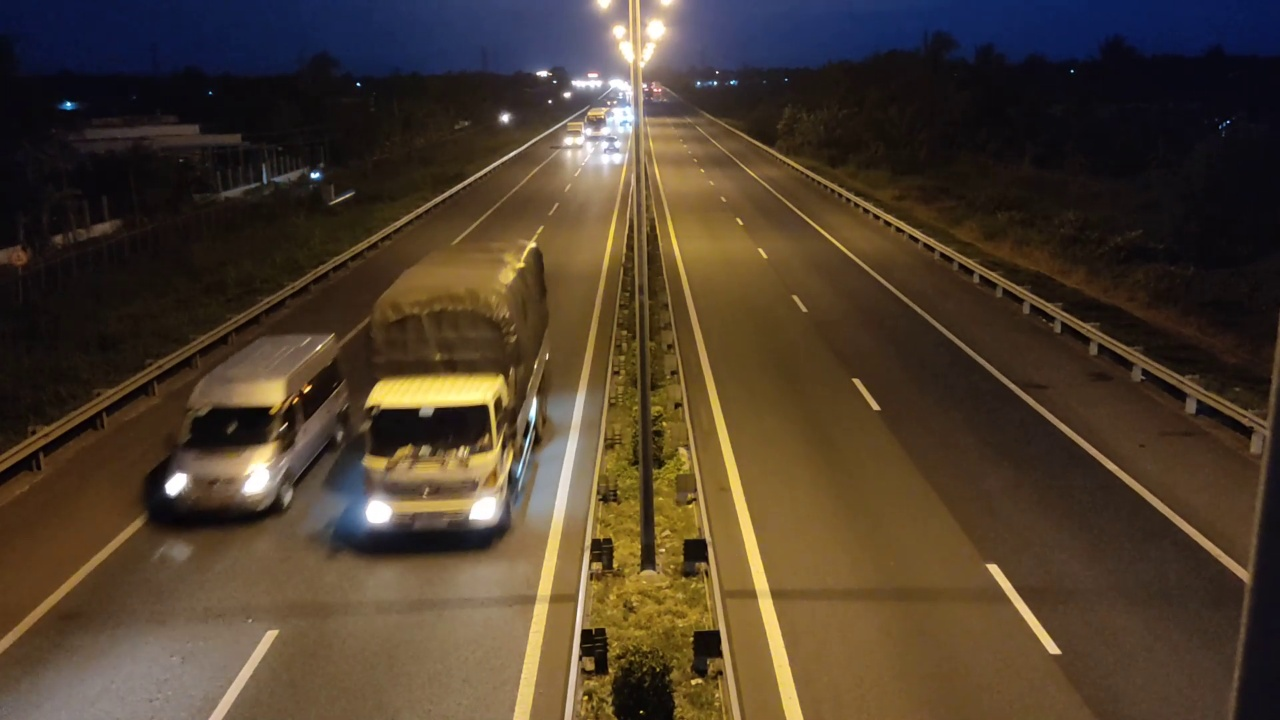car: (159, 326, 346, 525)
truck: (348, 236, 551, 551)
